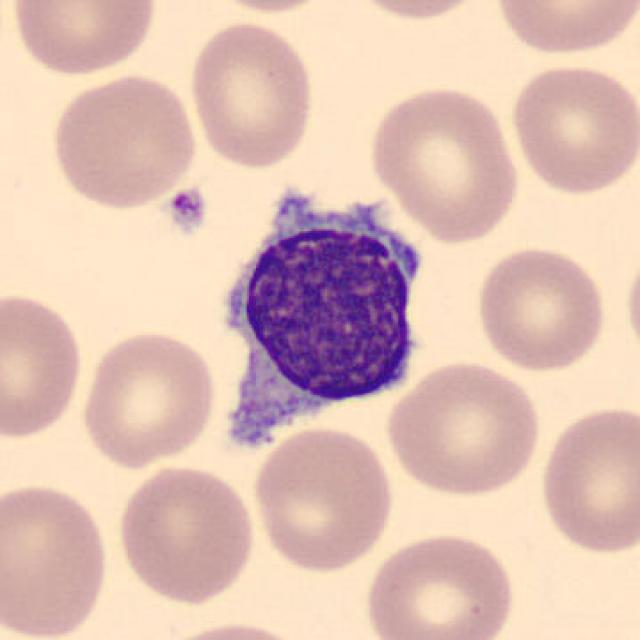Lymphocyte: (204, 175, 436, 456)
Platelets: (165, 185, 210, 236)
RBC: (364, 81, 522, 243), (380, 356, 544, 499), (249, 423, 396, 575), (46, 70, 199, 212), (114, 462, 258, 608), (76, 326, 220, 471), (185, 16, 318, 171), (0, 479, 114, 640), (471, 242, 610, 374), (505, 60, 638, 197), (361, 529, 519, 640), (535, 400, 638, 559), (0, 288, 87, 442), (7, 0, 161, 79), (491, 0, 638, 58), (148, 617, 316, 640), (340, 0, 494, 23), (622, 240, 640, 367), (198, 0, 340, 16)
